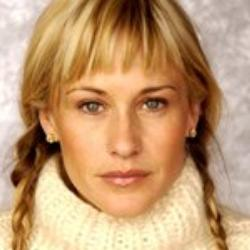face: (5, 1, 227, 225)
